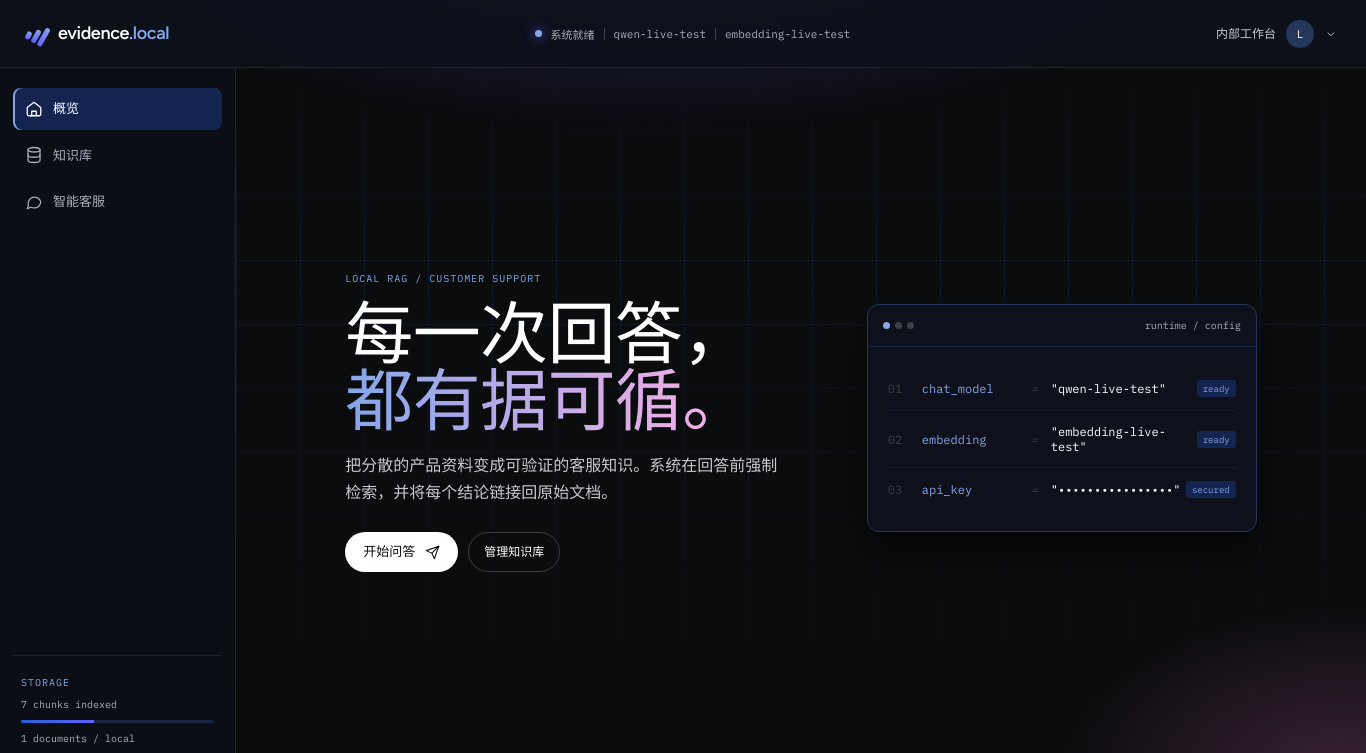
Test: 应用外壳与知识库页面 › 多轮提问后保留并展示完整会话历史
Check: the text "\"qwen-live-test\"" is shown, box [1051,381,1166,396]
Click the button "智能客服". click: click(118, 202)
box: [13,181,222,222]
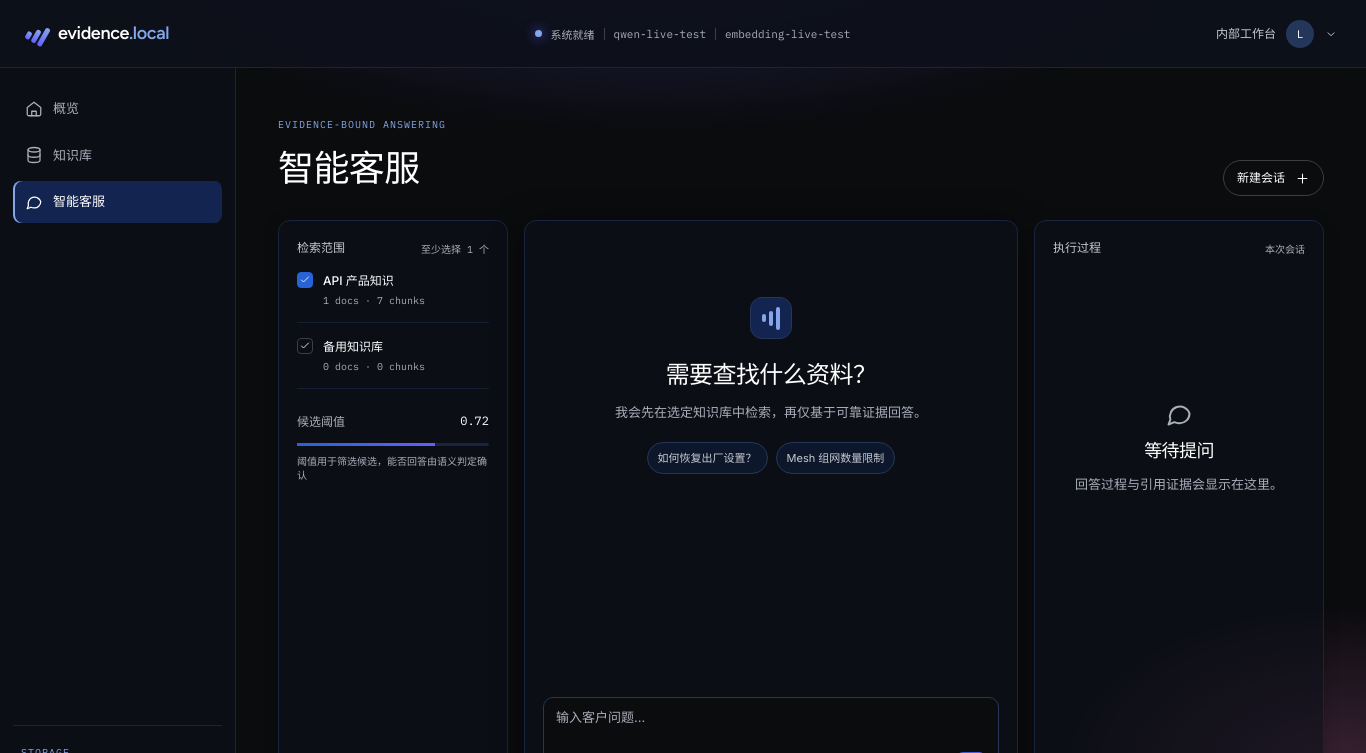
Type "第一轮问题" into the text box labelled "客户问题". click: (771, 727)
box: [556,708,986,746]
(page scrolled)
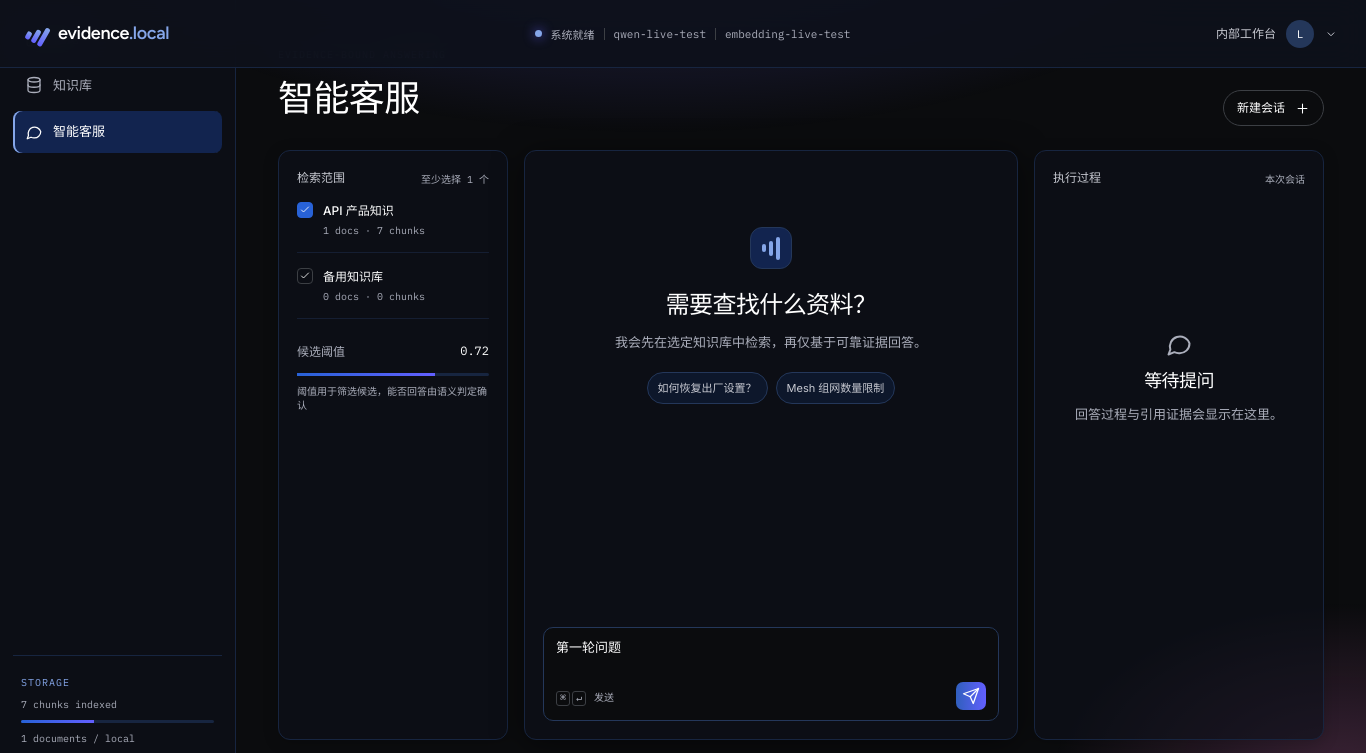
Click the button named "发送问题". click: click(971, 696)
box: [956,682,986,710]
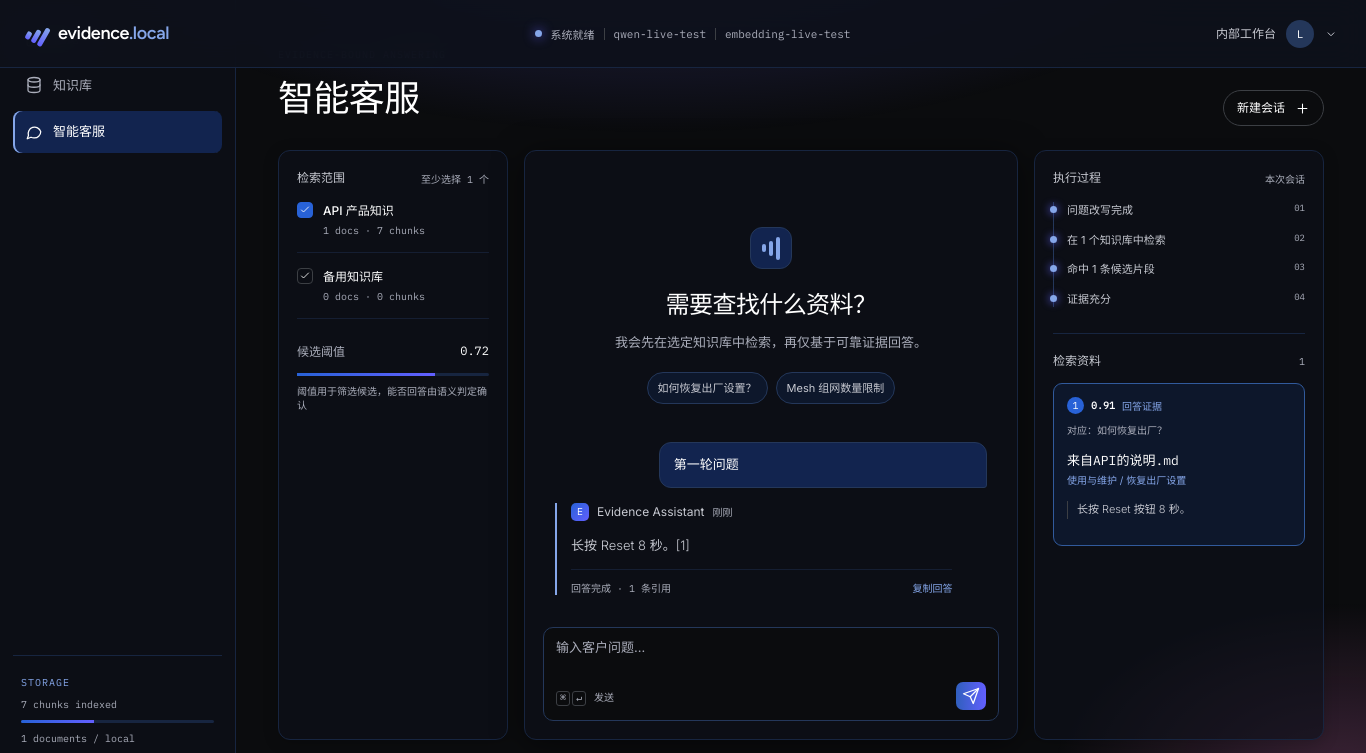
Check: the text "长按 Reset 8 秒。[1]" is shown, box [571,537,690,553]
Type "第二轮问题" into the text box labelled "客户问题". click: (771, 657)
box: [556,638,986,676]
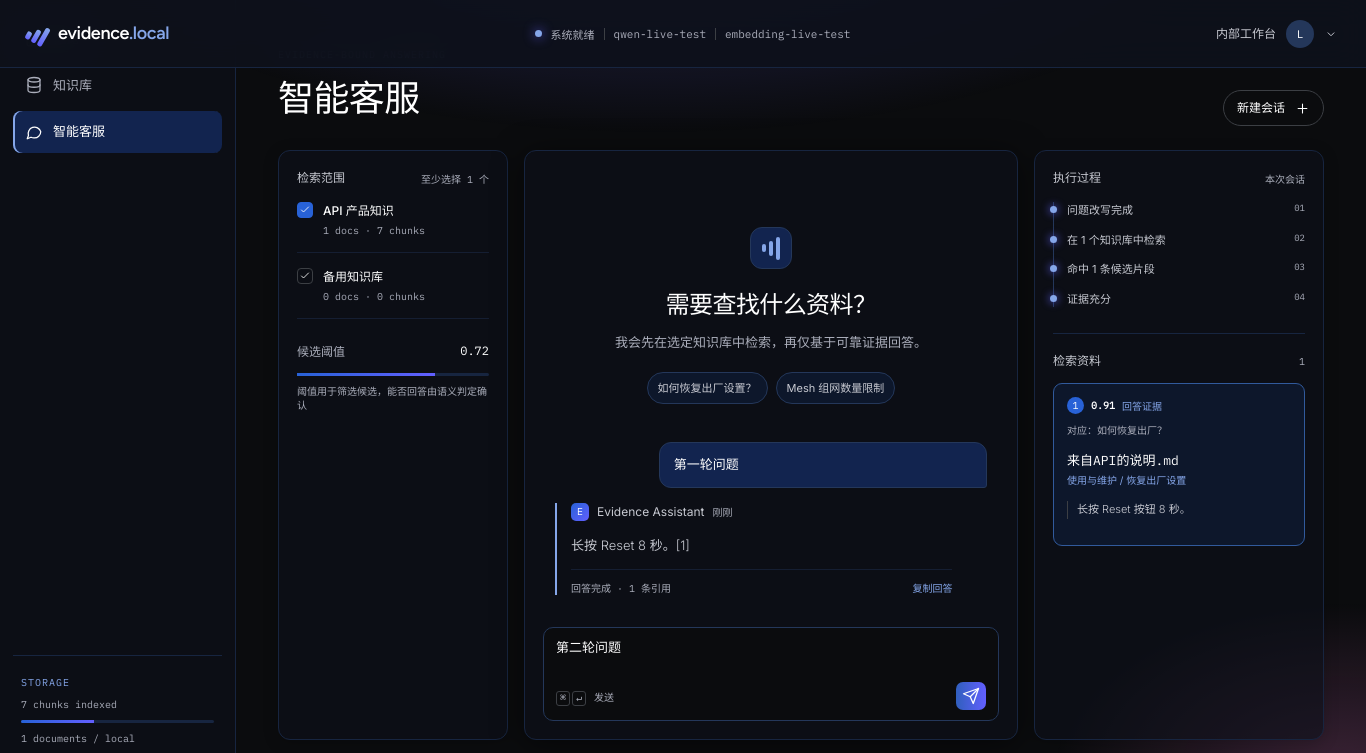
Click the button named "发送问题". click: click(971, 696)
box: [956,682,986,710]
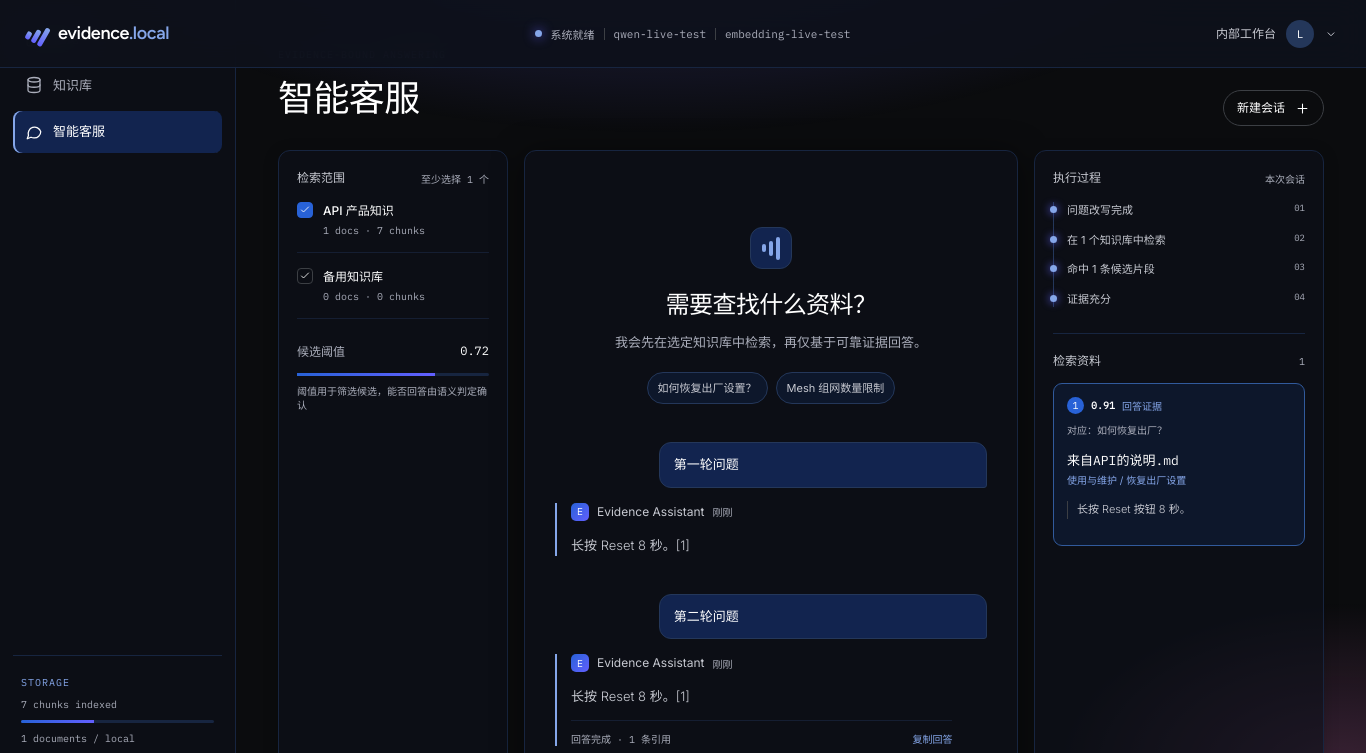
Check: the text "第一轮问题" is shown, box [659,442,987,488]
Check: the text "第二轮问题" is shown, box [659,594,987,639]
